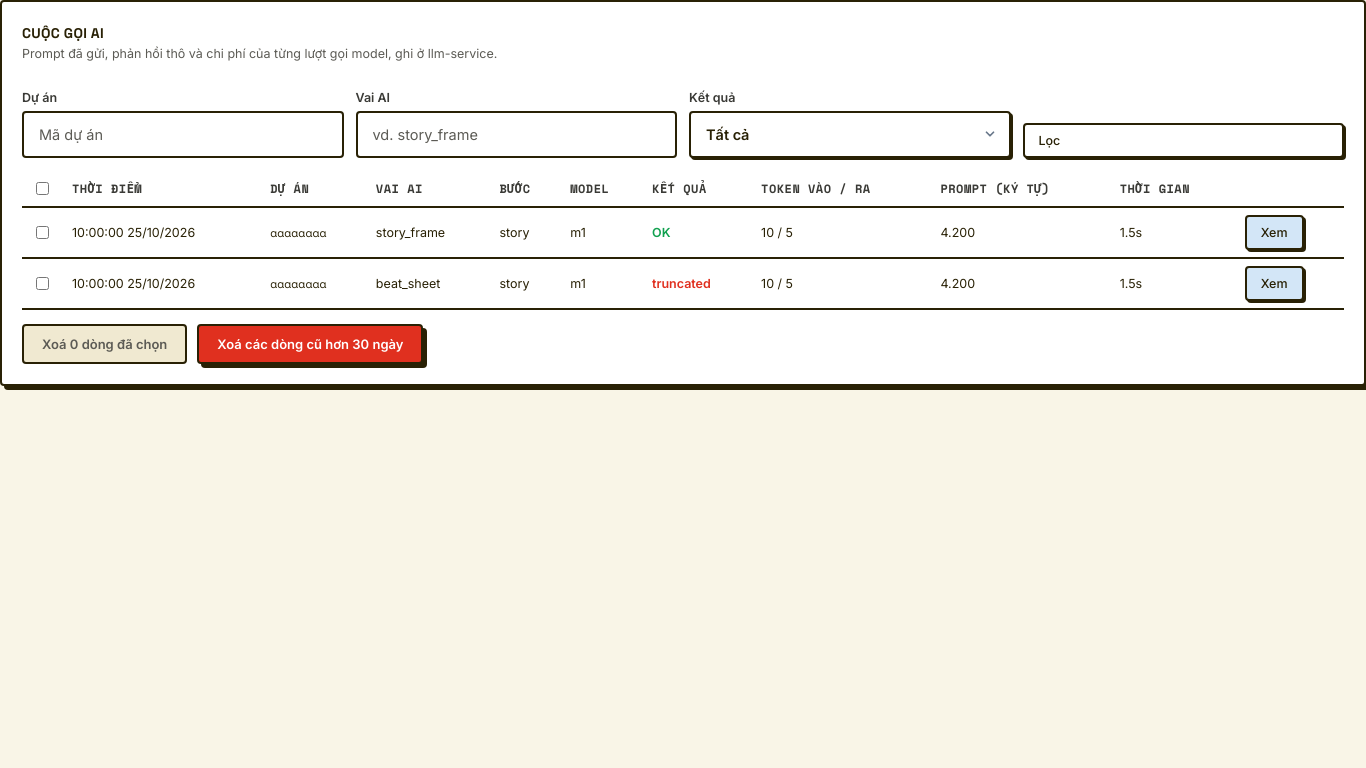
Test: LlmCallsPanel › selects every shown row at once and deletes them after a confirmation that says what is lost
Check: the button with test id "llm-delete-selected" is disabled, box [22,324,187,364]
Click the checkbox with test id "llm-select-all" at (42, 188), box [36,182,49,194]
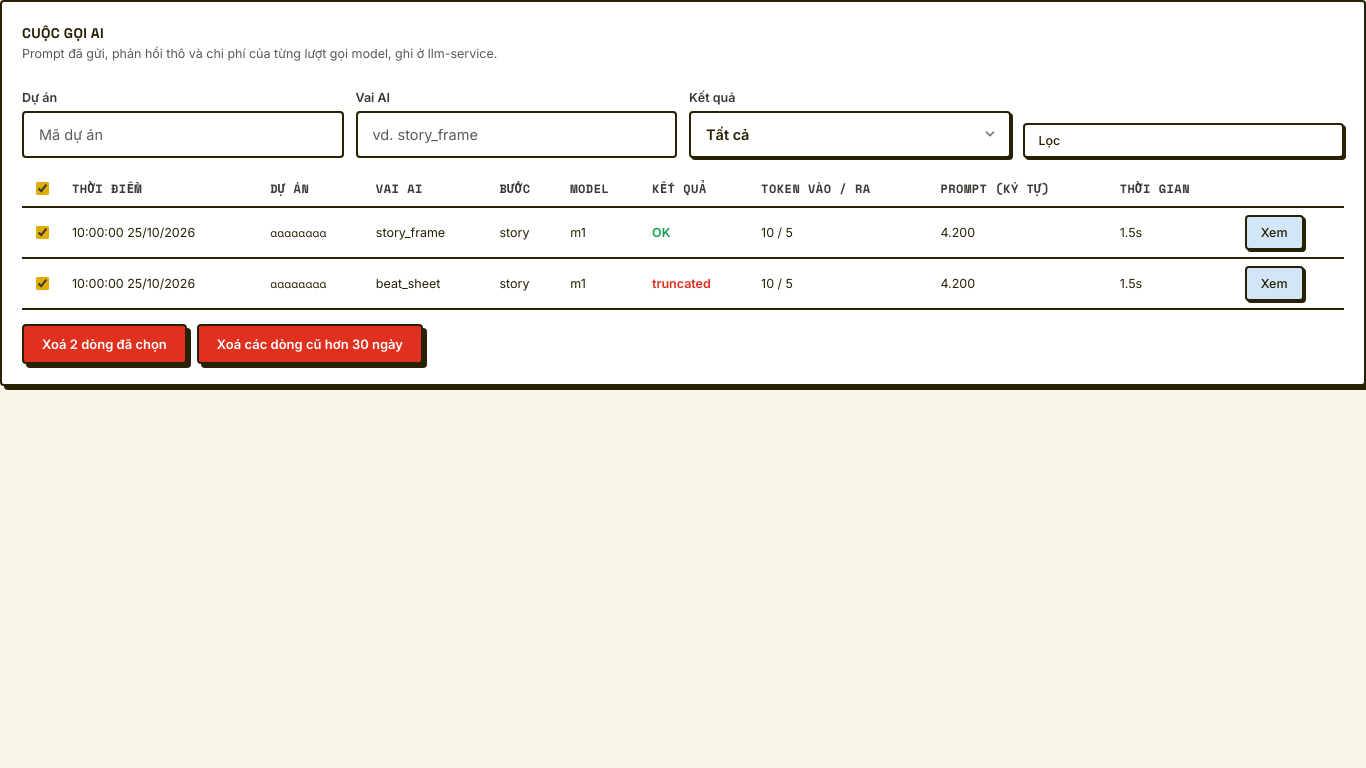
Check: the button with test id "llm-delete-selected" reads "Xoá 2 dòng đã chọn"
Click the button with test id "llm-delete-selected" at (104, 344), box [22,324,187,364]
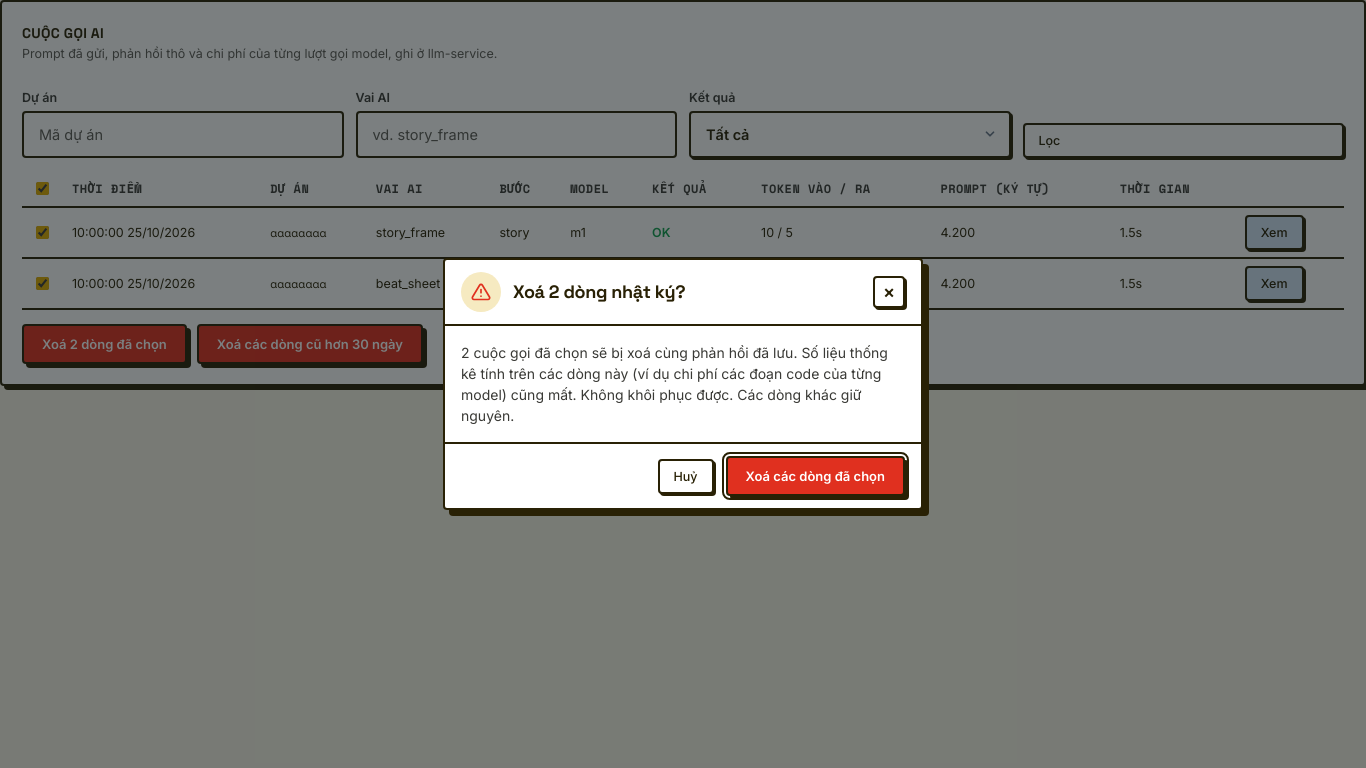
Check: the dialog with test id "confirm-modal" shows "2 cuộc gọi đã chọn", box [461,344,797,361]
Check: the dialog with test id "confirm-modal" shows "Không khôi phục được", box [461,344,888,424]
Check: the dialog with test id "confirm-modal" shows "thống kê", box [461,344,888,424]
Click the button "Xoá các dòng đã chọn" at (815, 476), box [726,456,905,496]
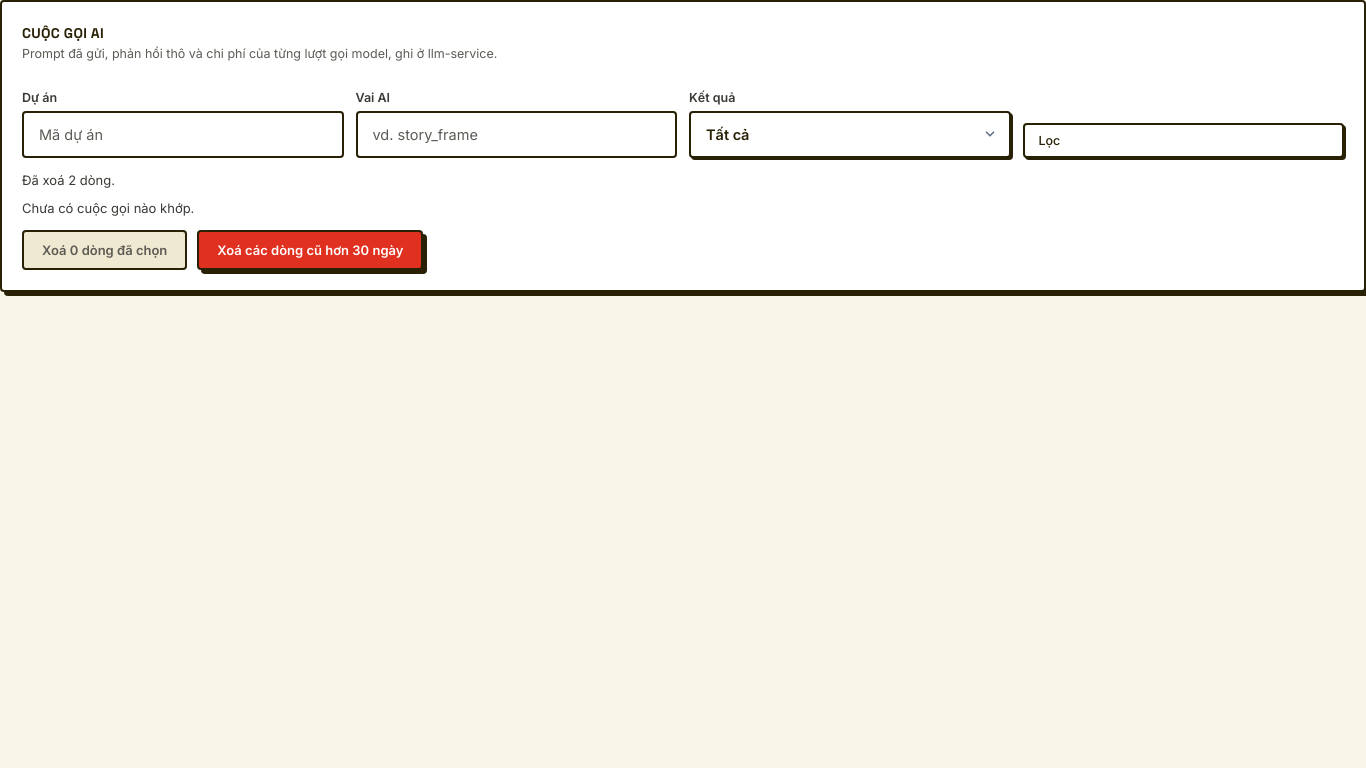
Check: the message with test id "llm-calls-notice" reads "Đã xoá 2 dòng.", box [22,172,115,188]
Check: the text "Chưa có cuộc gọi nào khớp." is shown, box [22,200,194,216]
